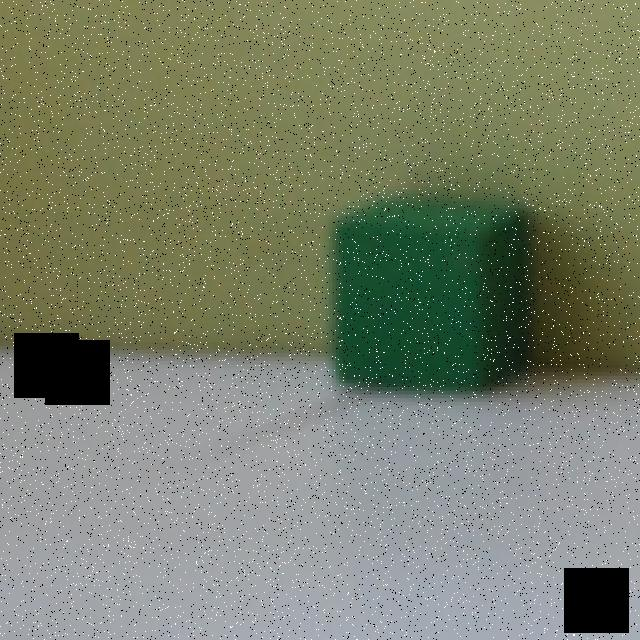green cube: (330, 186, 529, 390)
